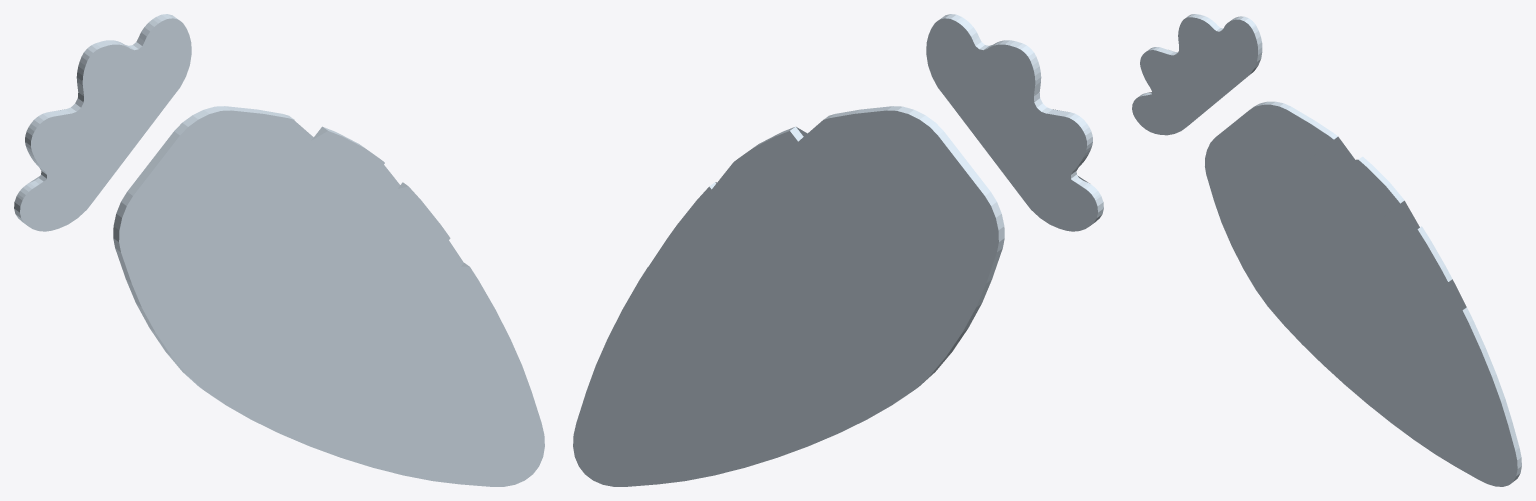
The model's file is Carrot_3D_Icon.fbx.
3 renders of one model, left to right at view 1: azimuth 30°, elevation 25°; view 2: azimuth 150°, elevation 25°; view 3: azimuth 330°, elevation 25°, orthographic. The views are drawn at different scales.
Visible parts, largest first — view 1: Carrot_3D_Icon; view 2: Carrot_3D_Icon; view 3: Carrot_3D_Icon.
Part boxes in pixels (bbox=[...]): Carrot_3D_Icon: bbox=[14, 14, 544, 486]; Carrot_3D_Icon: bbox=[573, 14, 1103, 486]; Carrot_3D_Icon: bbox=[1132, 14, 1521, 486].
Size of the model in its own units: 102 by 102 by 2.
